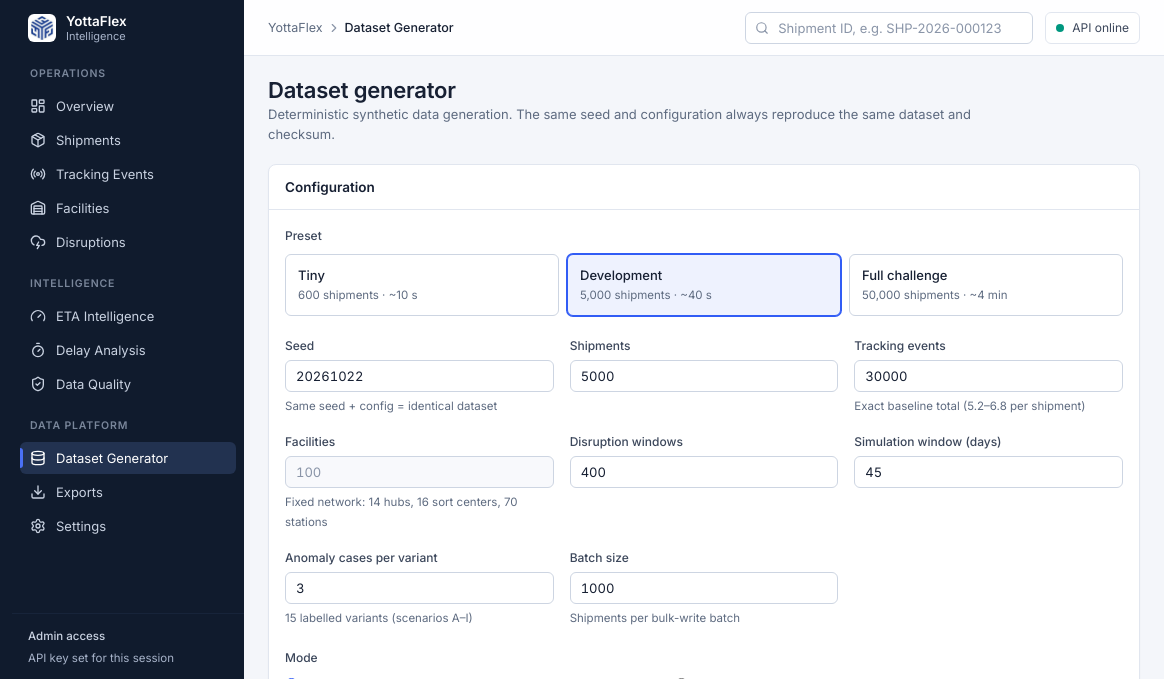
Test: dataset generator › validates the form and blocks an impossible configuration
Replace the text in the field labelled "Tracking events" with "999999" at (989, 376), box [854, 360, 1123, 392]
(page scrolled)
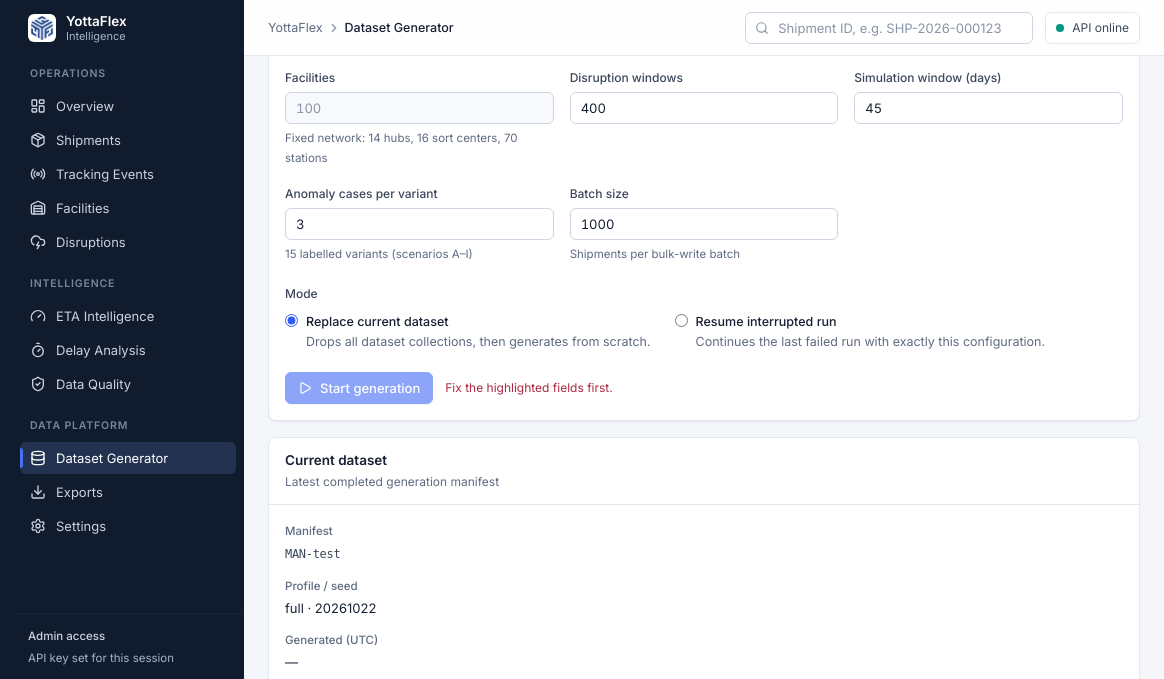
Expected: the button "Start generation" is disabled, [285, 372, 433, 404]
